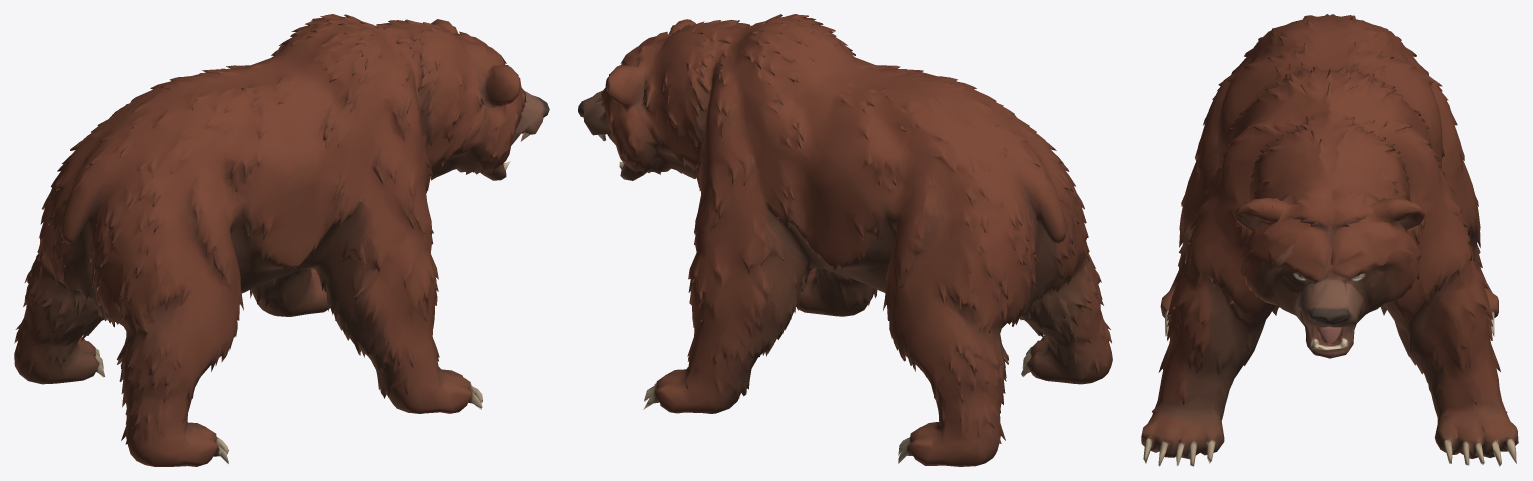
File: akakabuto.glb
3 views of the same model, side by side, from view 1: azimuth 30°, elevation 25°; view 2: azimuth 150°, elevation 25°; view 3: azimuth 270°, elevation 25° (orthographic). The views are drawn at different scales.
Parts seen in each view (by area): view 1: tripo_node_1c1d1cfd-a76c-43b1-abfe-62e787a36281; view 2: tripo_node_1c1d1cfd-a76c-43b1-abfe-62e787a36281; view 3: tripo_node_1c1d1cfd-a76c-43b1-abfe-62e787a36281.
Part boxes in pixels (<box>): tripo_node_1c1d1cfd-a76c-43b1-abfe-62e787a36281: <box>14,14,549,466</box>; tripo_node_1c1d1cfd-a76c-43b1-abfe-62e787a36281: <box>578,14,1112,466</box>; tripo_node_1c1d1cfd-a76c-43b1-abfe-62e787a36281: <box>1141,14,1518,466</box>.
Size of the model in its own units: 1 by 0.6695 by 0.6246.
1 material, 1 textured.
